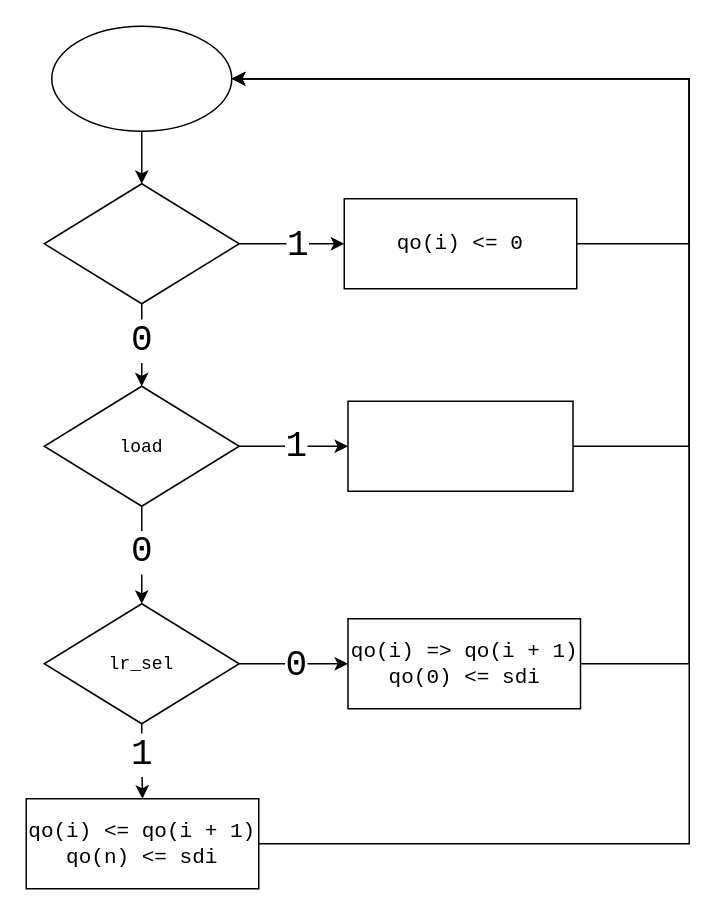
Image size: 728x915. Some labels were removed from this diagram. The centre of each missing label's shape, as x and y in pixels:
"clear" belongs at (x=141, y=243).
"qo(i) <= di(i)" belongs at (x=459, y=445).
"Start" belongs at (x=141, y=78).
